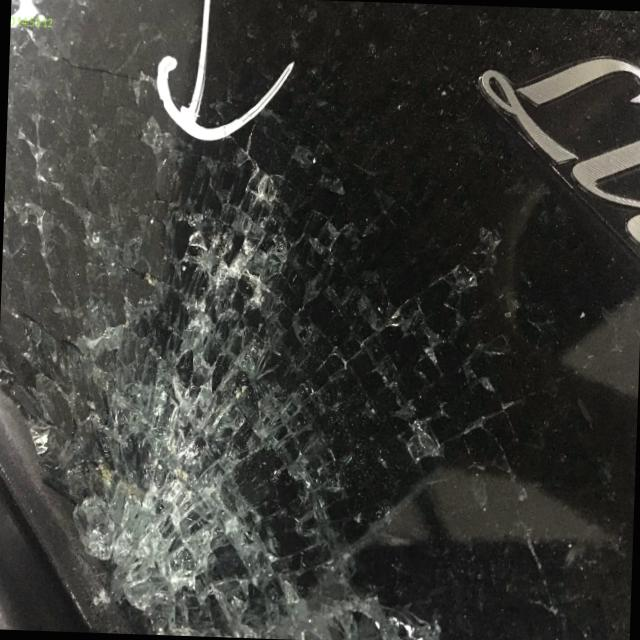Fissure: (81, 173, 319, 640), (298, 369, 454, 640), (345, 239, 511, 385)
